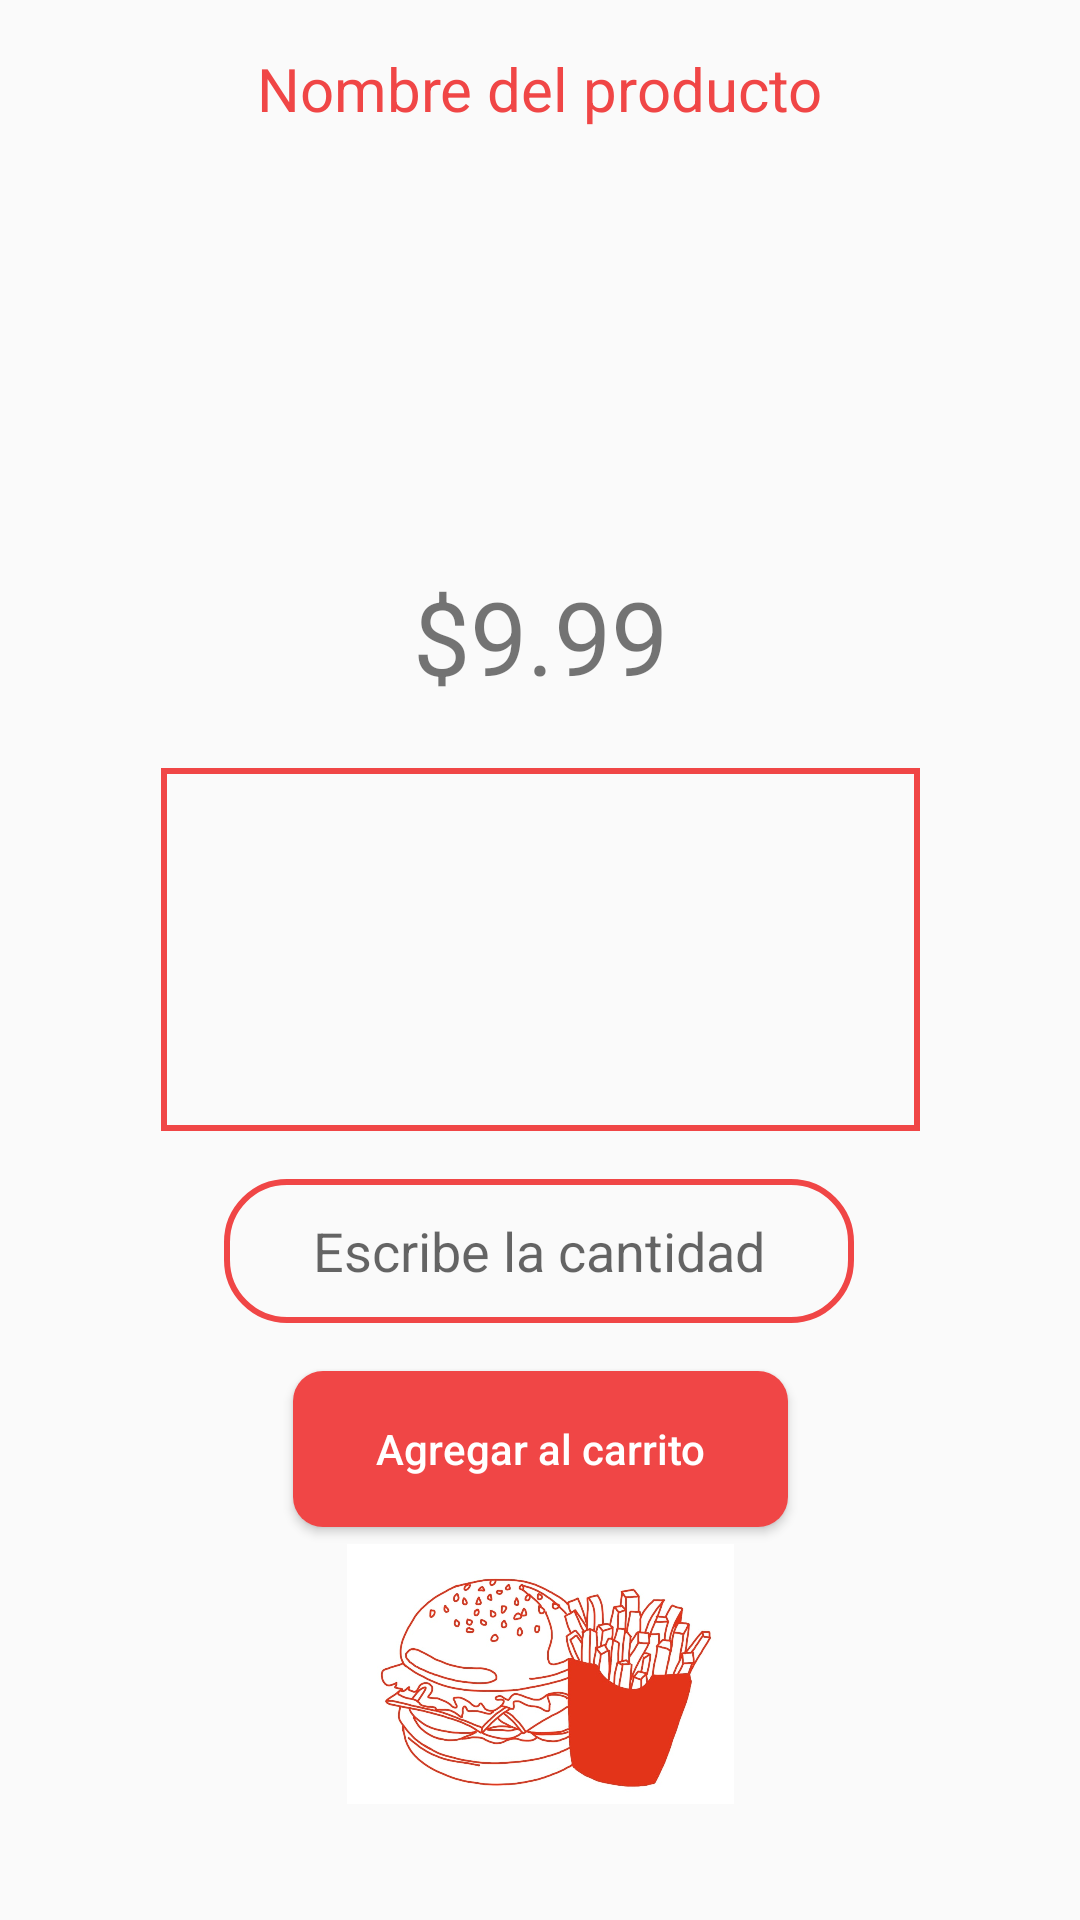

Named icons in this screenshot (1080x1920) and their centers, [x,y]:
papas hamb: [546,1683]
